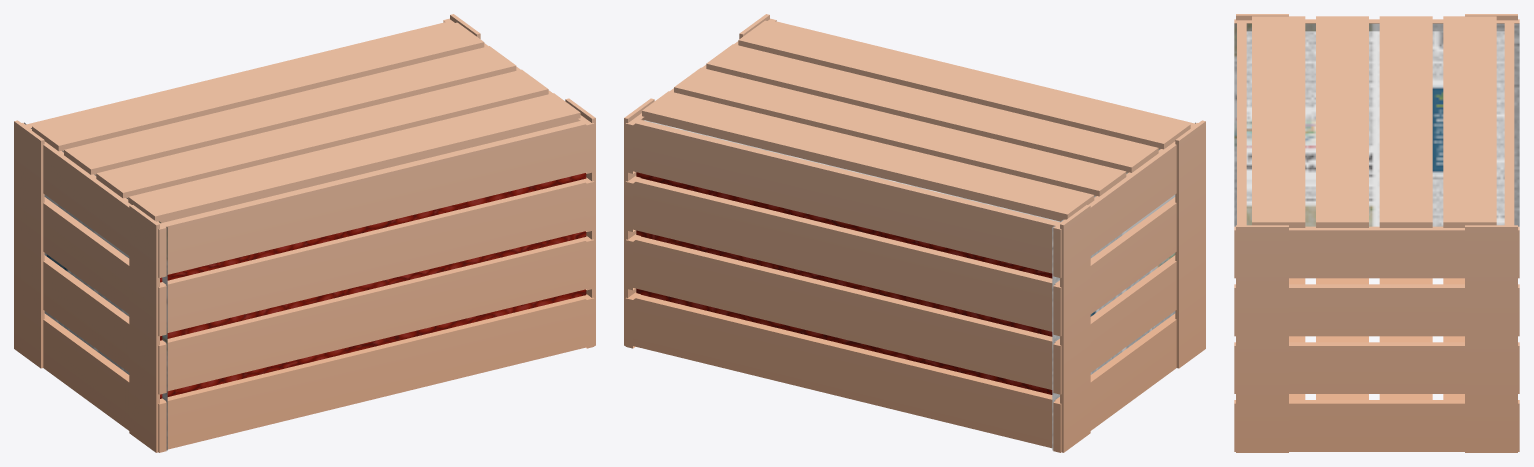
Rendered from BoxBuah.fbx.
The picture shows the model from 3 angles, left to right: view 1: azimuth 30°, elevation 25°; view 2: azimuth 150°, elevation 25°; view 3: azimuth 270°, elevation 25°; orthographic projection.
Visible parts, largest first — view 1: BoxBuah_LOD0; view 2: BoxBuah_LOD0; view 3: BoxBuah_LOD0.
Part boxes in pixels (x1=…): BoxBuah_LOD0: x1=14, y1=14, x2=595, y2=452; BoxBuah_LOD0: x1=624, y1=14, x2=1205, y2=452; BoxBuah_LOD0: x1=1234, y1=14, x2=1519, y2=452.
Size of what is drawn, in the model's own units: 207 by 103 by 117.
